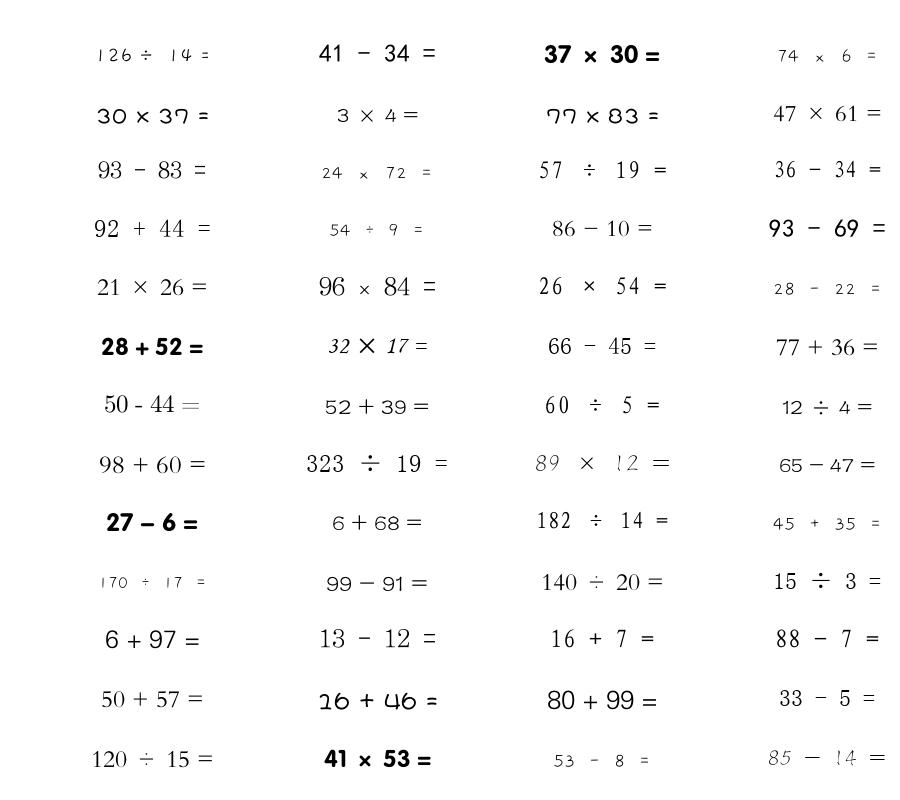MQ: (306, 454, 448, 472), (536, 511, 668, 529), (319, 276, 436, 296), (319, 628, 436, 648), (538, 161, 667, 179), (538, 277, 667, 295), (544, 44, 660, 64), (535, 455, 670, 472), (547, 690, 658, 710), (317, 692, 438, 710), (319, 44, 436, 62), (94, 219, 211, 237), (769, 219, 886, 237), (541, 574, 664, 591), (91, 751, 214, 768), (544, 396, 660, 414), (324, 749, 431, 768), (550, 629, 654, 648), (775, 629, 879, 648), (98, 161, 206, 179), (773, 160, 881, 178), (101, 337, 203, 356), (99, 456, 206, 474), (768, 750, 886, 766), (97, 279, 208, 296), (773, 105, 882, 122), (106, 512, 198, 532), (548, 337, 656, 354), (773, 572, 881, 589), (96, 108, 209, 124), (546, 108, 659, 124), (105, 630, 200, 649), (325, 398, 429, 415), (776, 339, 879, 356), (101, 691, 204, 708), (94, 48, 210, 63), (104, 395, 200, 413), (552, 220, 653, 237), (327, 338, 427, 354), (779, 690, 875, 706), (332, 514, 422, 531), (326, 576, 428, 591), (773, 282, 882, 296), (773, 517, 882, 531), (321, 167, 433, 180), (779, 458, 875, 473), (777, 49, 878, 63), (553, 754, 651, 768), (782, 400, 872, 415), (329, 223, 425, 237), (98, 577, 207, 589), (337, 108, 418, 123)
